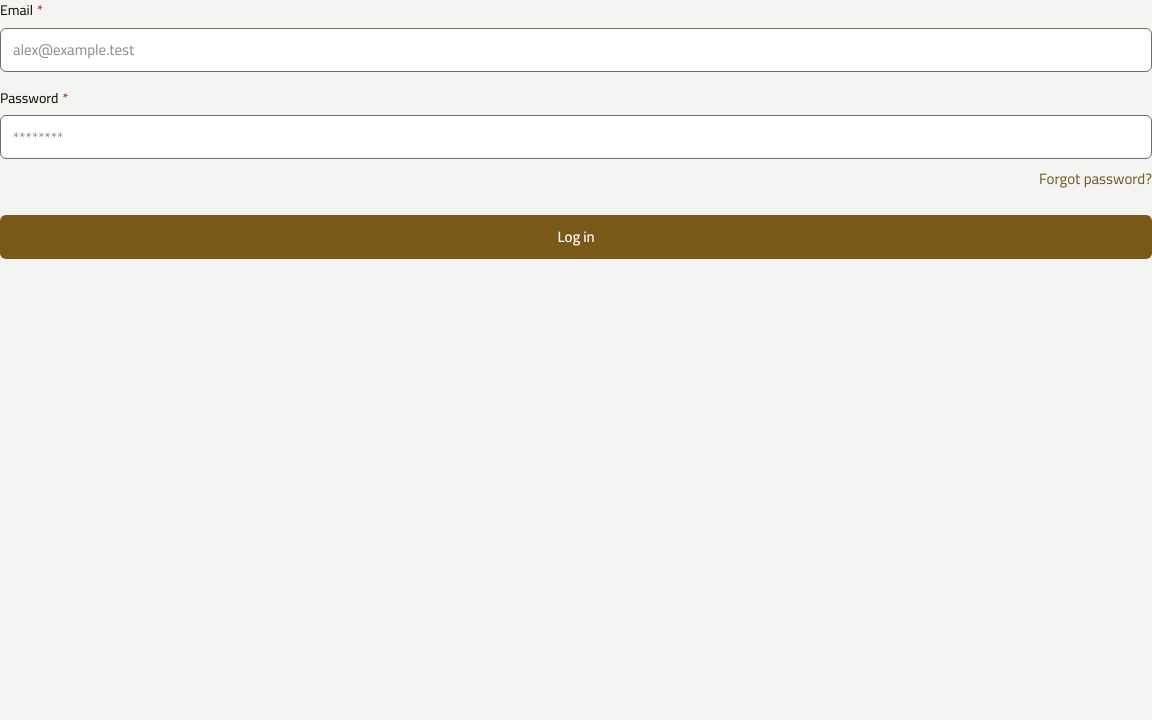
Test: AuthForm Component › submitting forgot password modal sends reset email
Step 1. Click the button with test id "forgot-password-link" → {"x": 1096, "y": 179}, box x1=1039 y1=167 x2=1151 y2=191
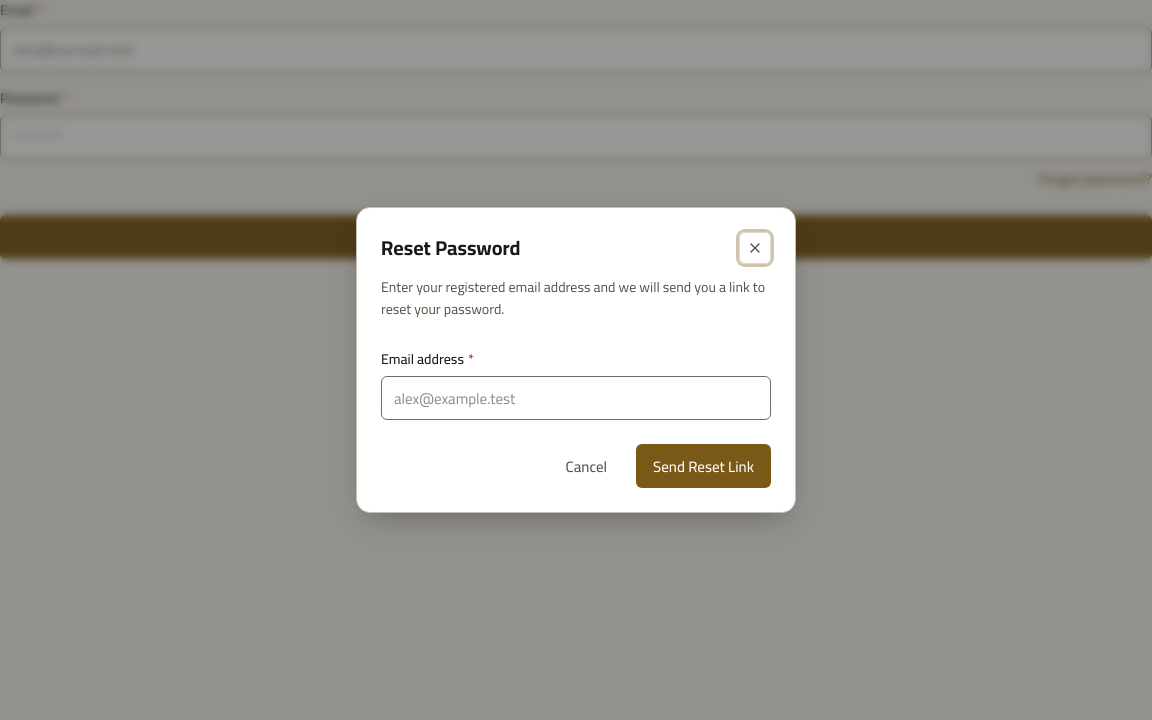
Check: the field with test id "reset-email-input" is shown
Step 2. Type "user@example.com" into the field with test id "reset-email-input" → {"x": 576, "y": 398}, box x1=381 y1=376 x2=771 y2=420
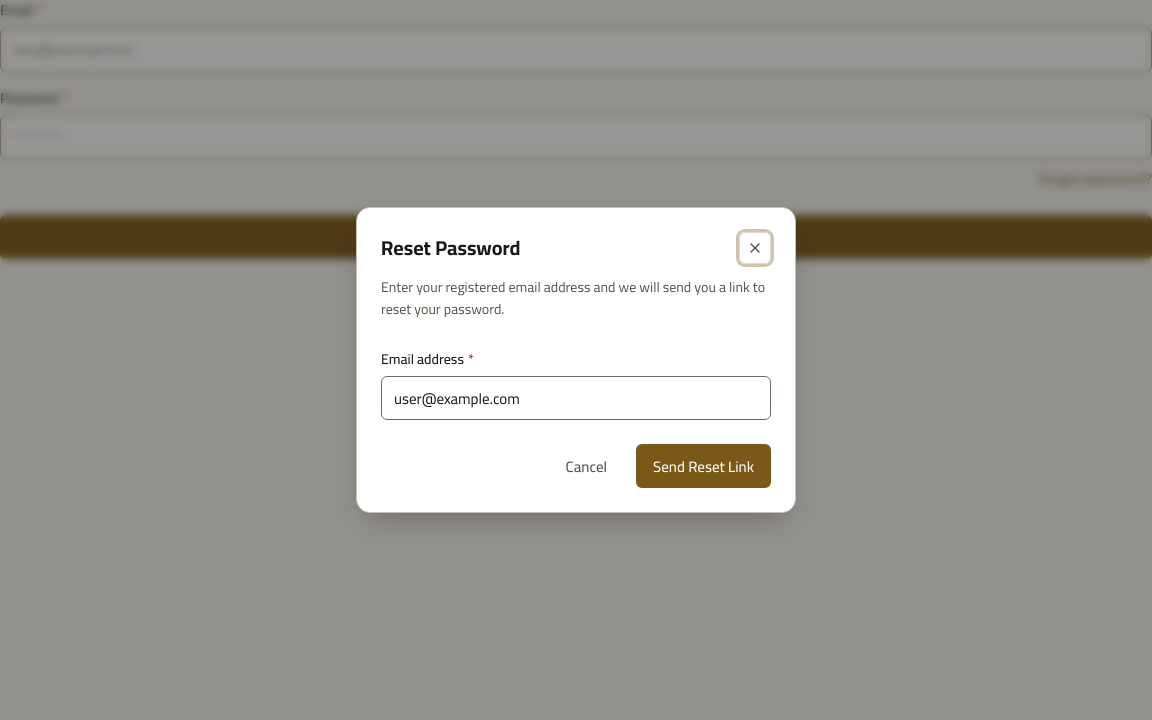
Step 3. Click the button with test id "reset-submit-btn" → {"x": 704, "y": 466}, box x1=636 y1=444 x2=771 y2=488
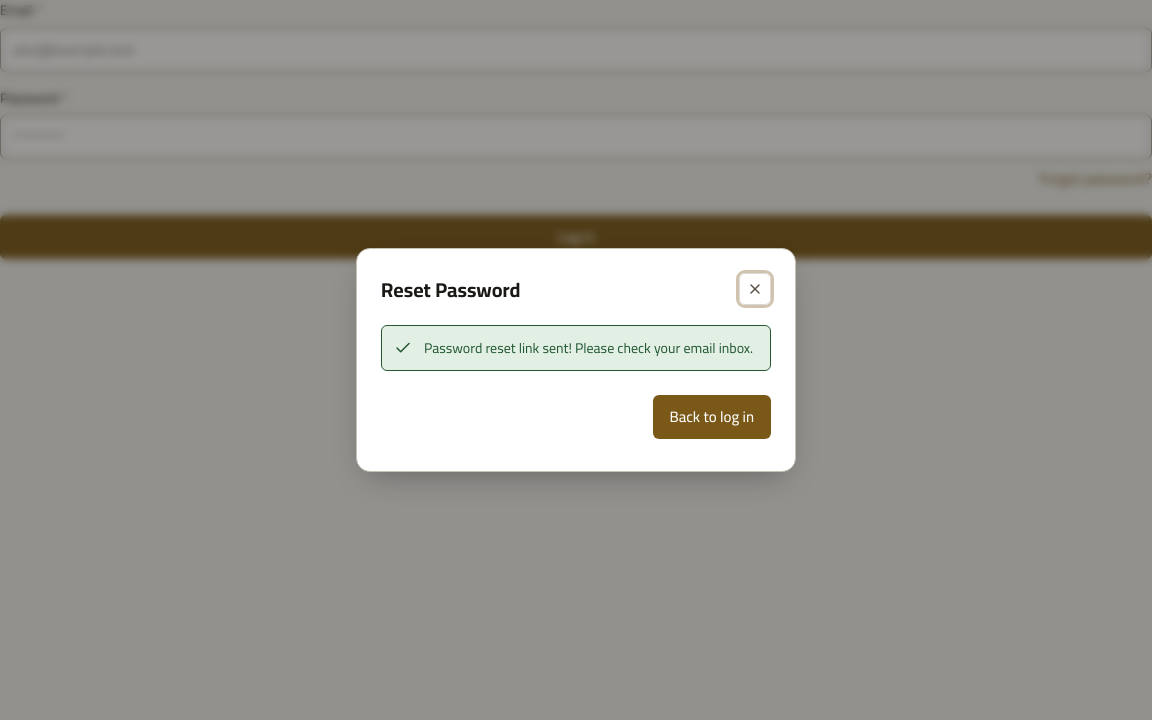
Check: the element with test id "reset-success-message" is shown, box x1=381 y1=317 x2=771 y2=447
